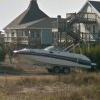Boat: (13, 39, 100, 83)
